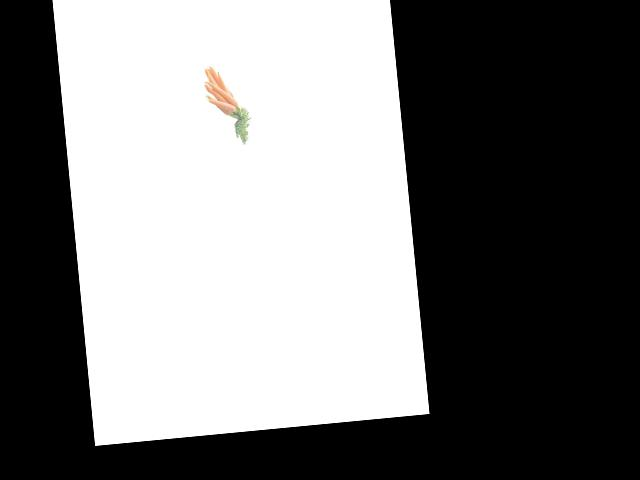carrot: (197, 98, 233, 118)
